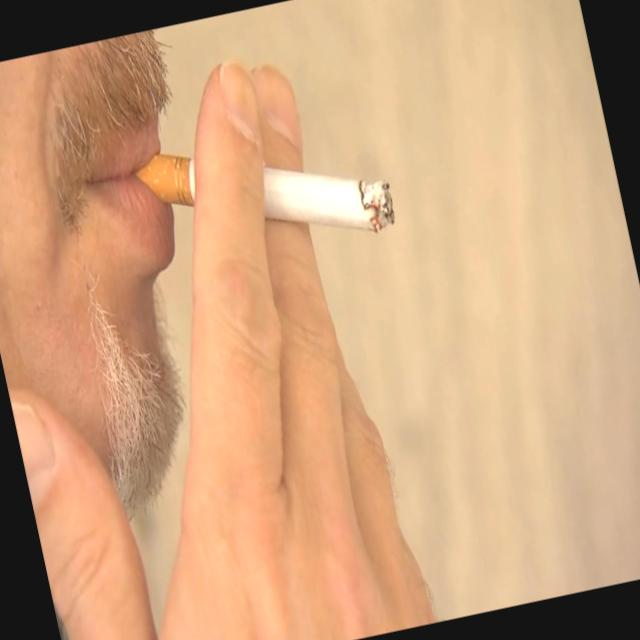cigarette: (89, 0, 414, 337)
